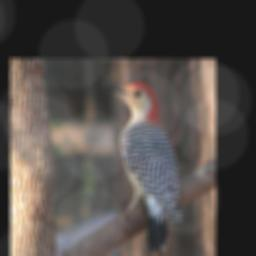Woodpecker: (100, 80, 184, 252)
